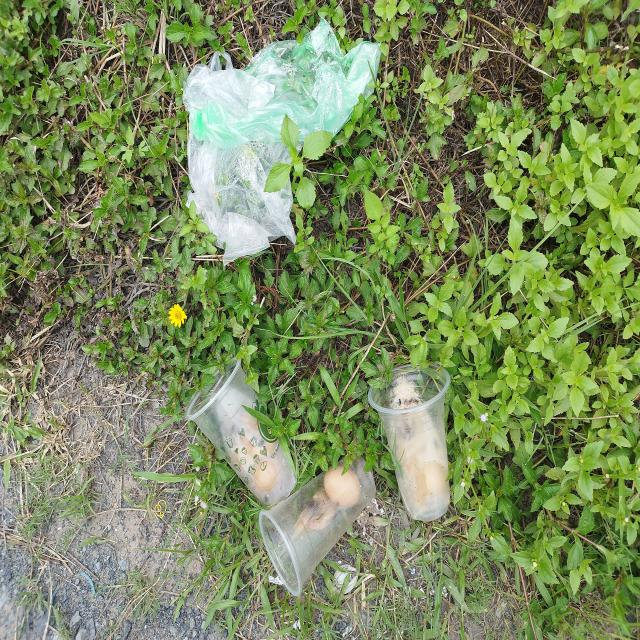bag: (182, 16, 384, 264)
plastic glass: (184, 355, 296, 506), (258, 452, 376, 595), (368, 362, 450, 521)
